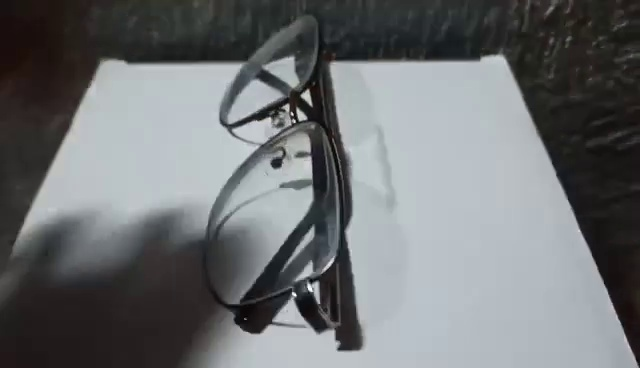glasses: (195, 1, 365, 343)
